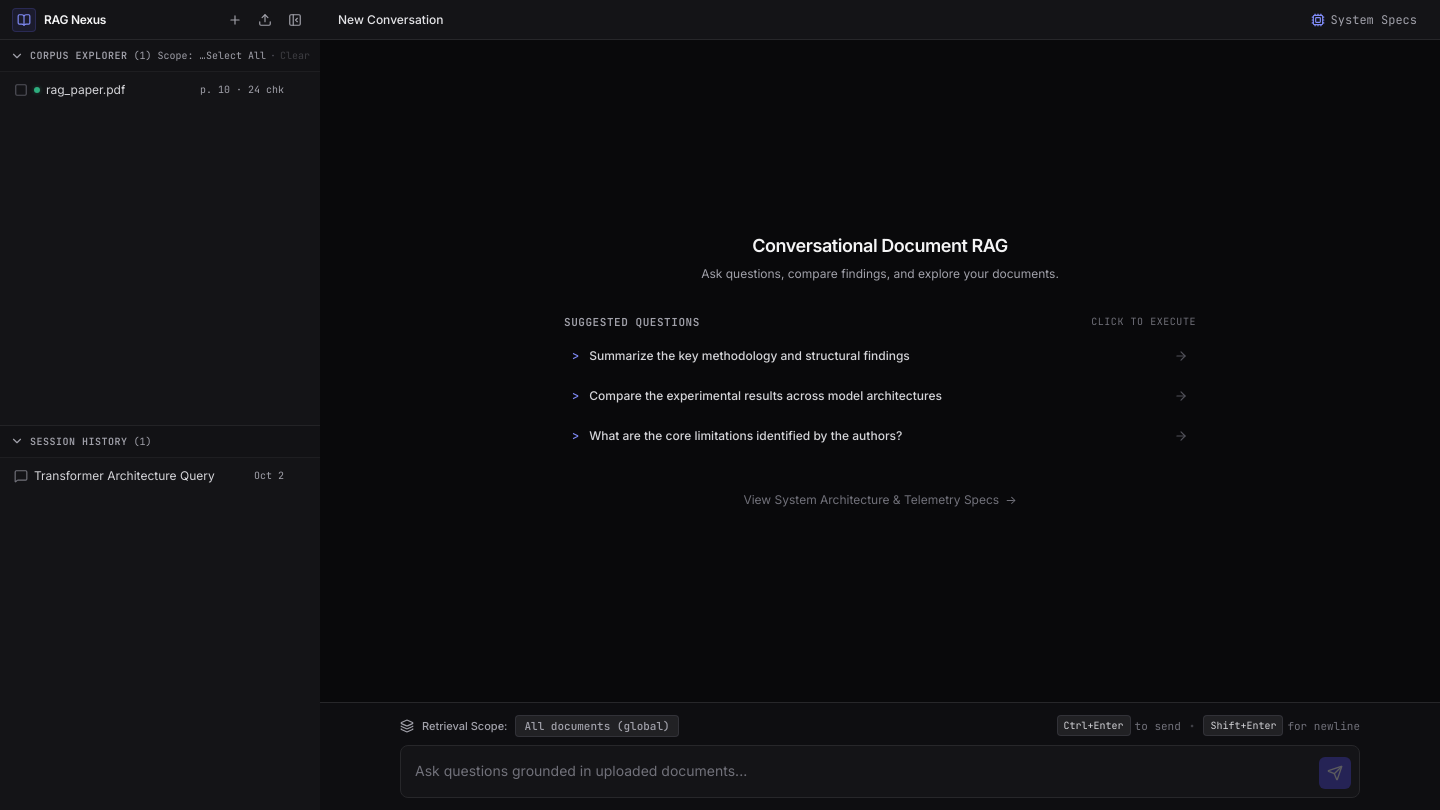
App Integration (Document Management & Conversation Sessions) › loads conversation messages and restores document scope when a past session is selected
Click the button "Transformer Architecture Query Oct 2".
click(149, 475)  # box [14, 468, 284, 482]
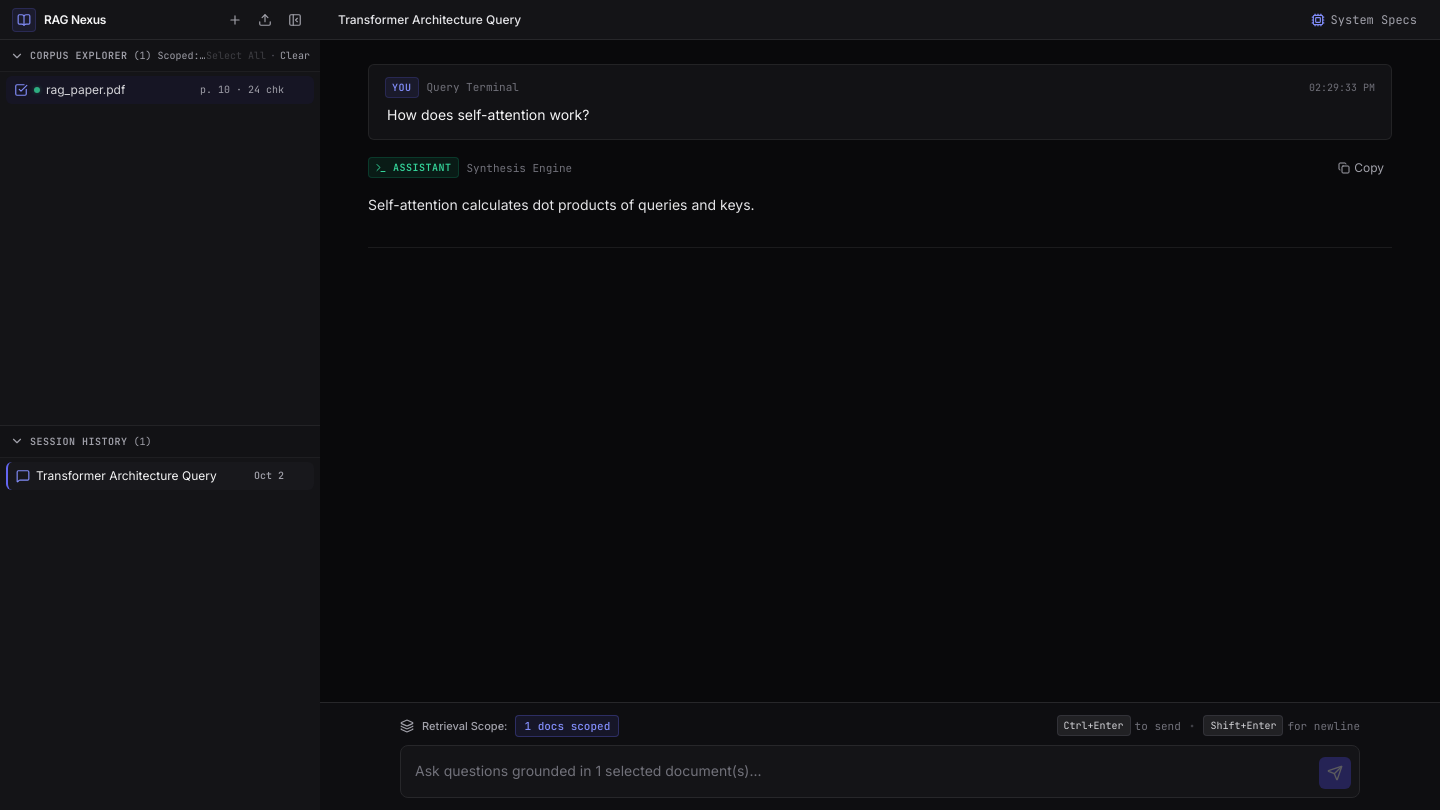
expect the text "How does self-attention work?" is shown: met, box [387, 106, 589, 123]
expect the text "Self-attention calculates dot products of queries and keys." is shown: met, box [368, 196, 755, 213]
expect the text "1 docs scoped" is shown: met, box [516, 714, 619, 737]
